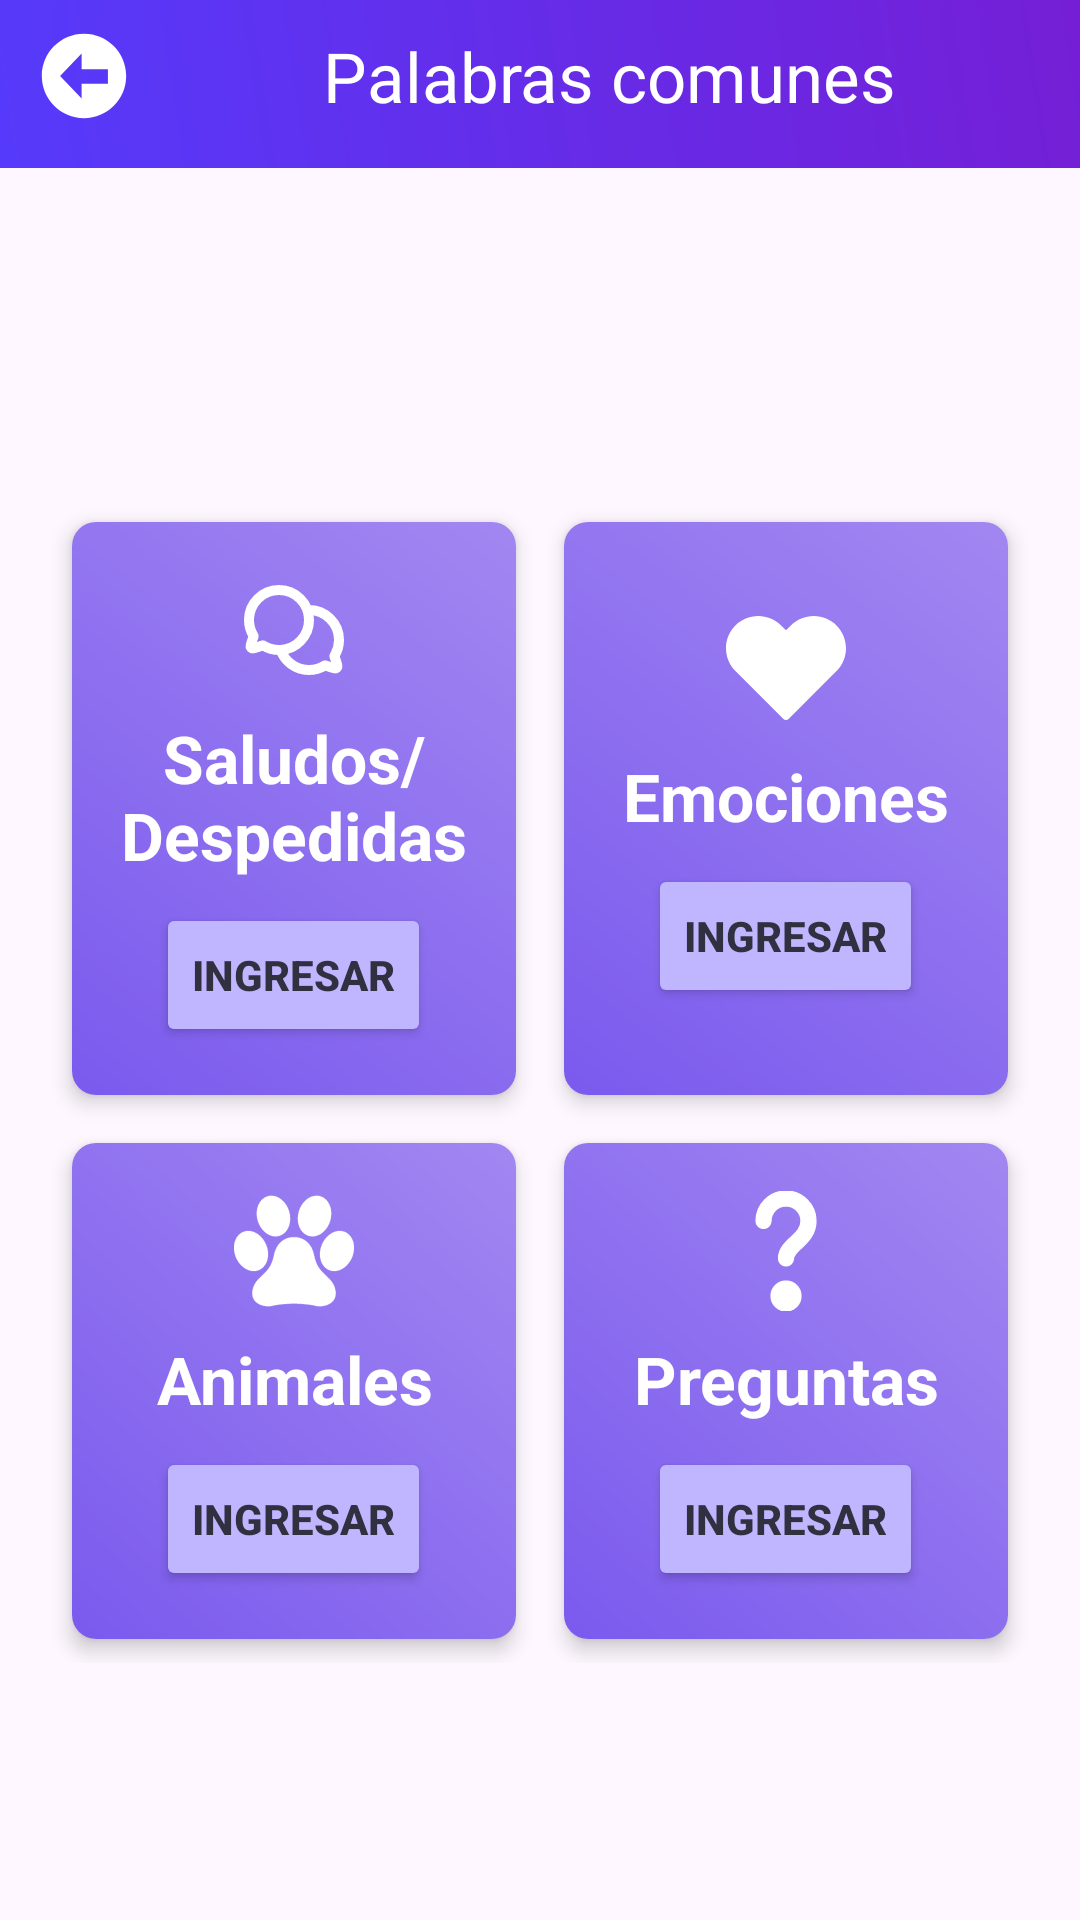

Icon bounding boxes for this 1080w x 1920h phone screenshot, format (x1, y1, x2, y2):
corazon: (726, 616, 846, 720)
flecha volver: (41, 33, 127, 119)
huella: (234, 1195, 354, 1307)
mensaje: (244, 585, 344, 675)
